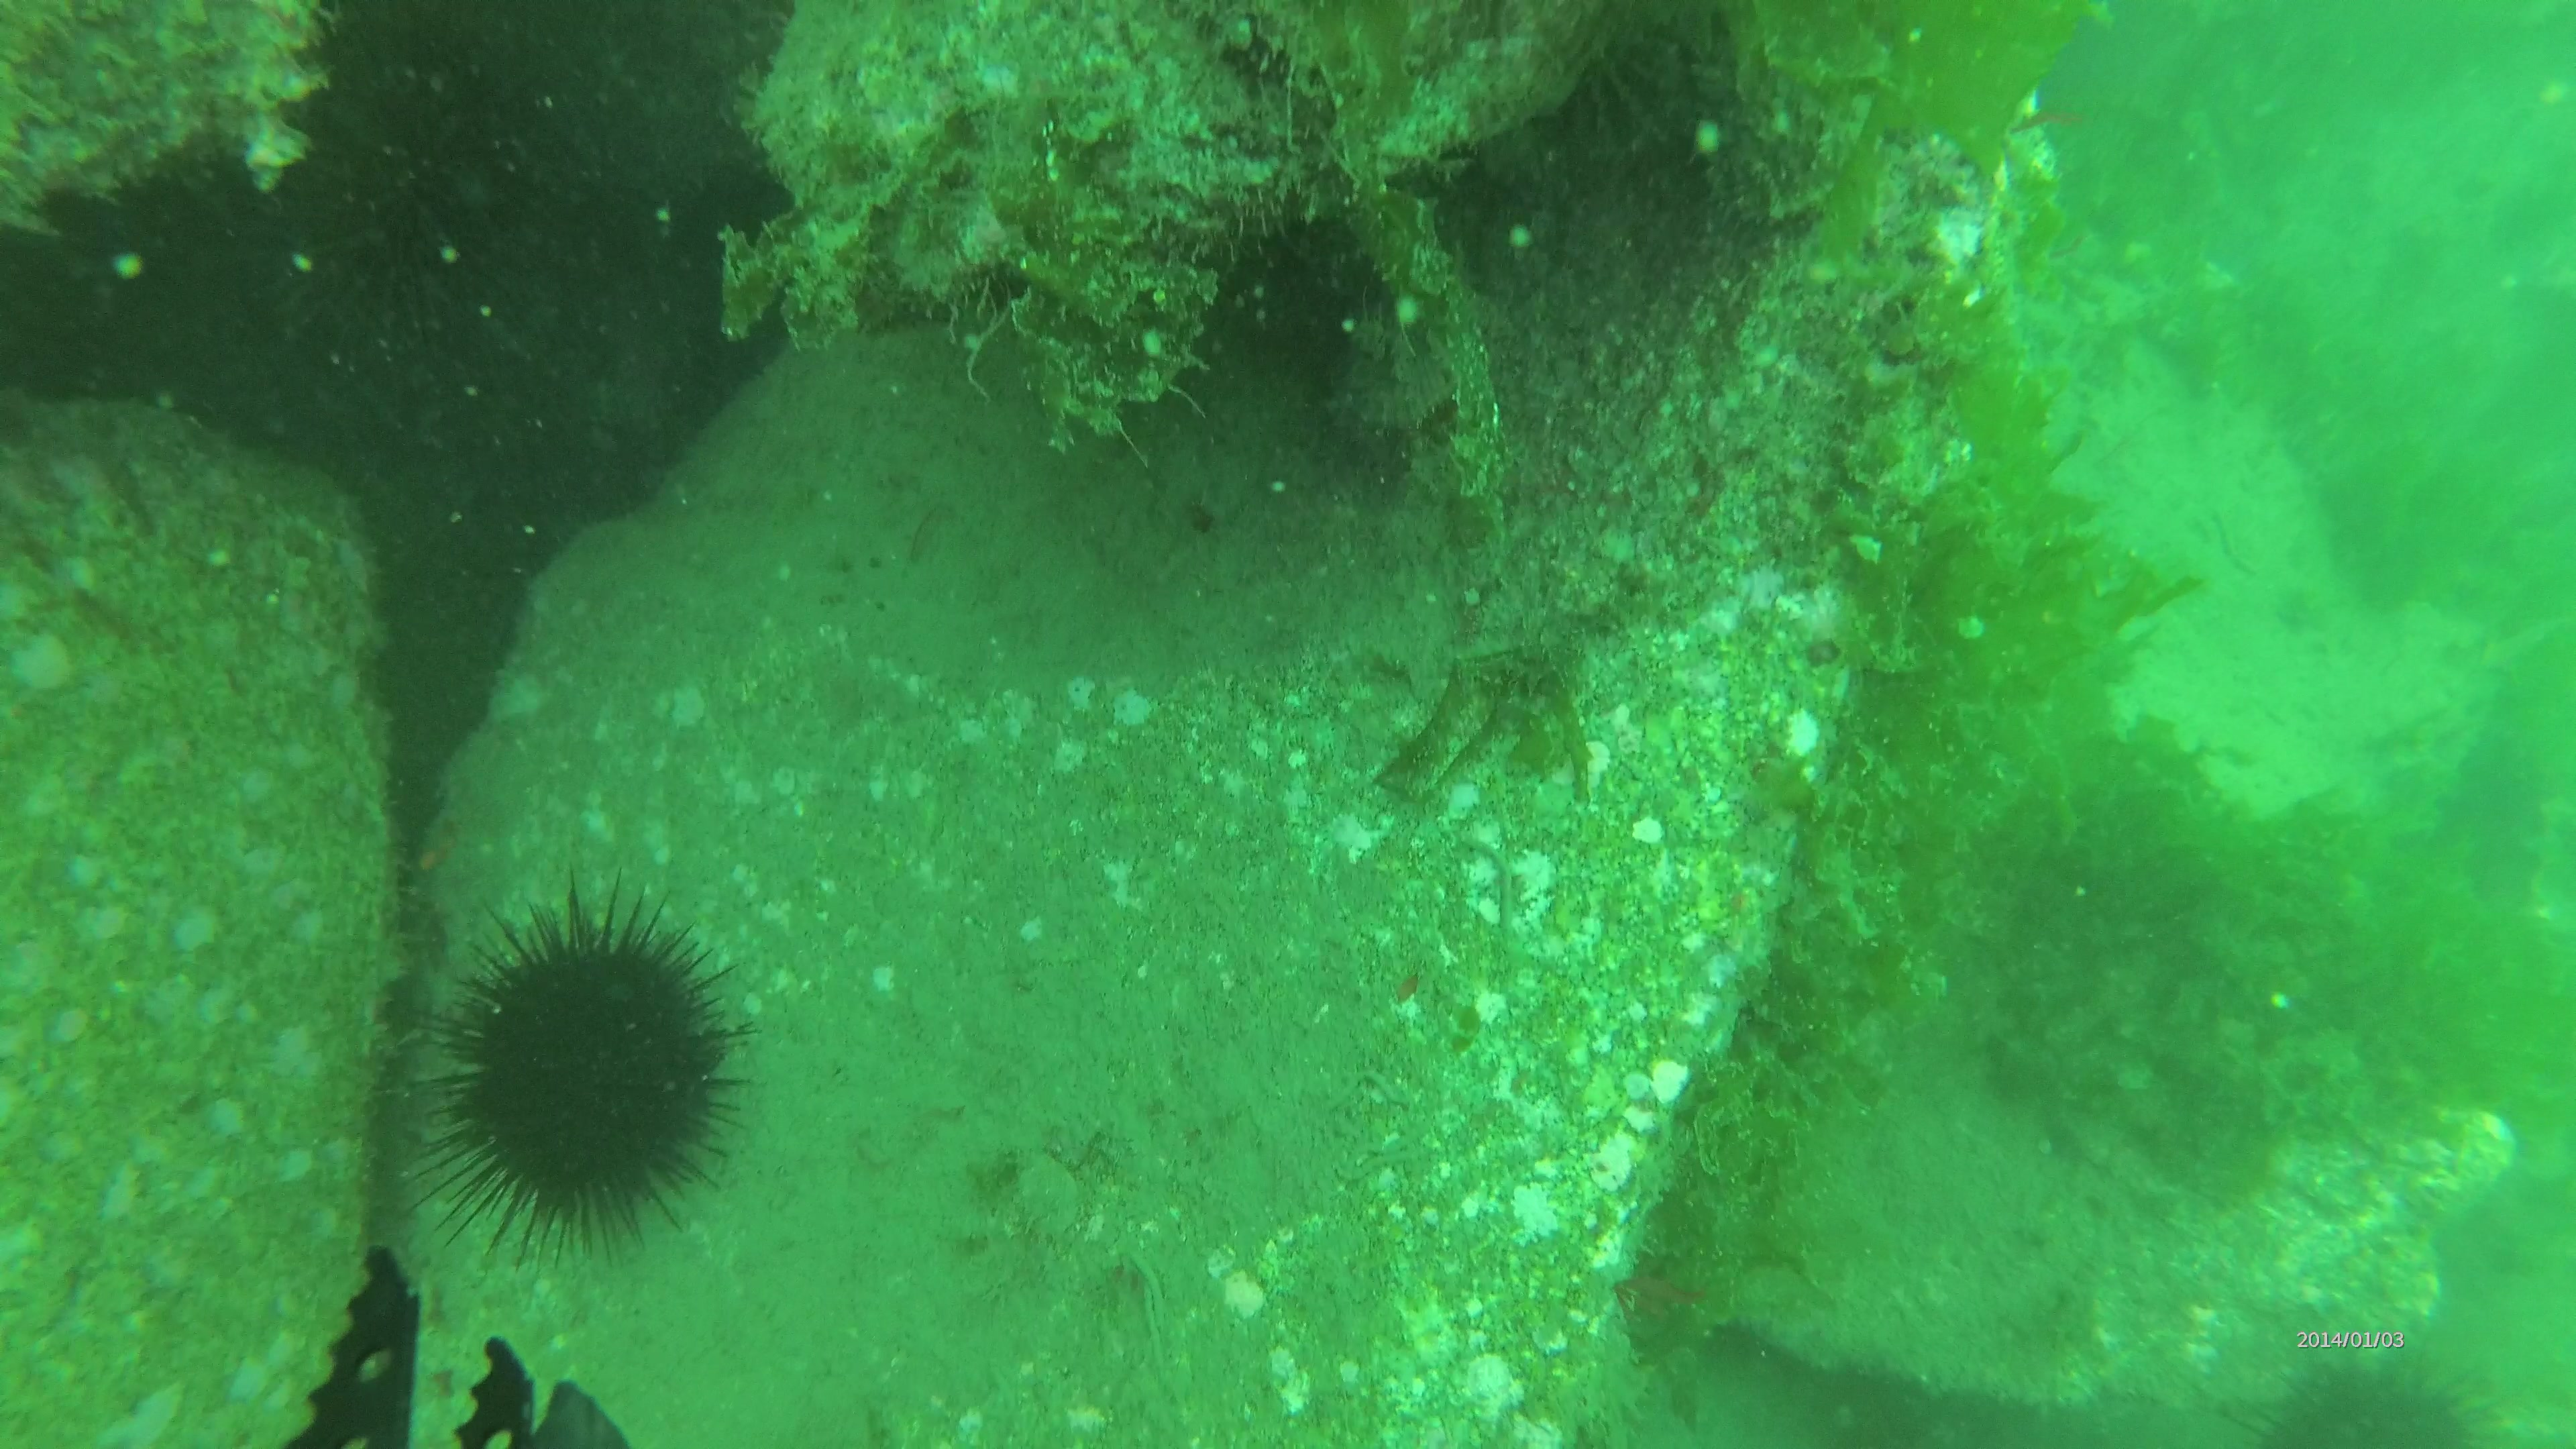echinus: (402, 869, 761, 1279)
